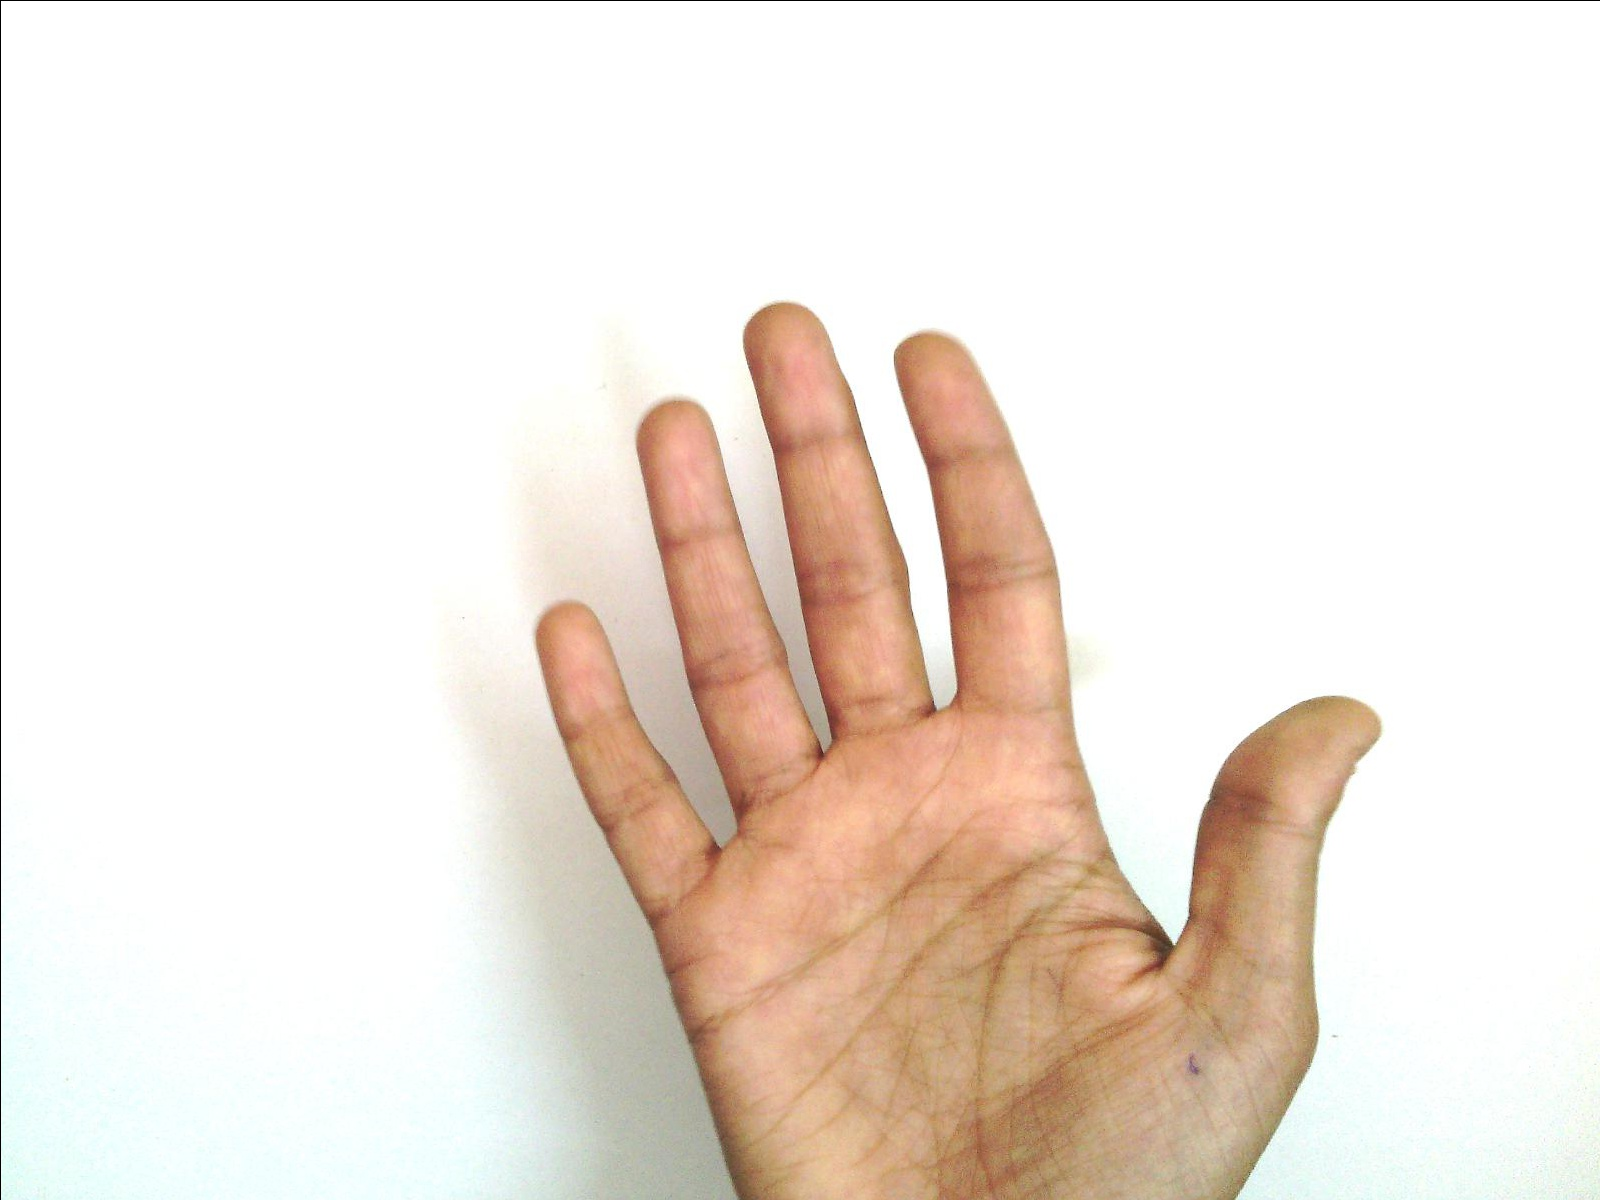5-hand: (533, 303, 1385, 1200)
